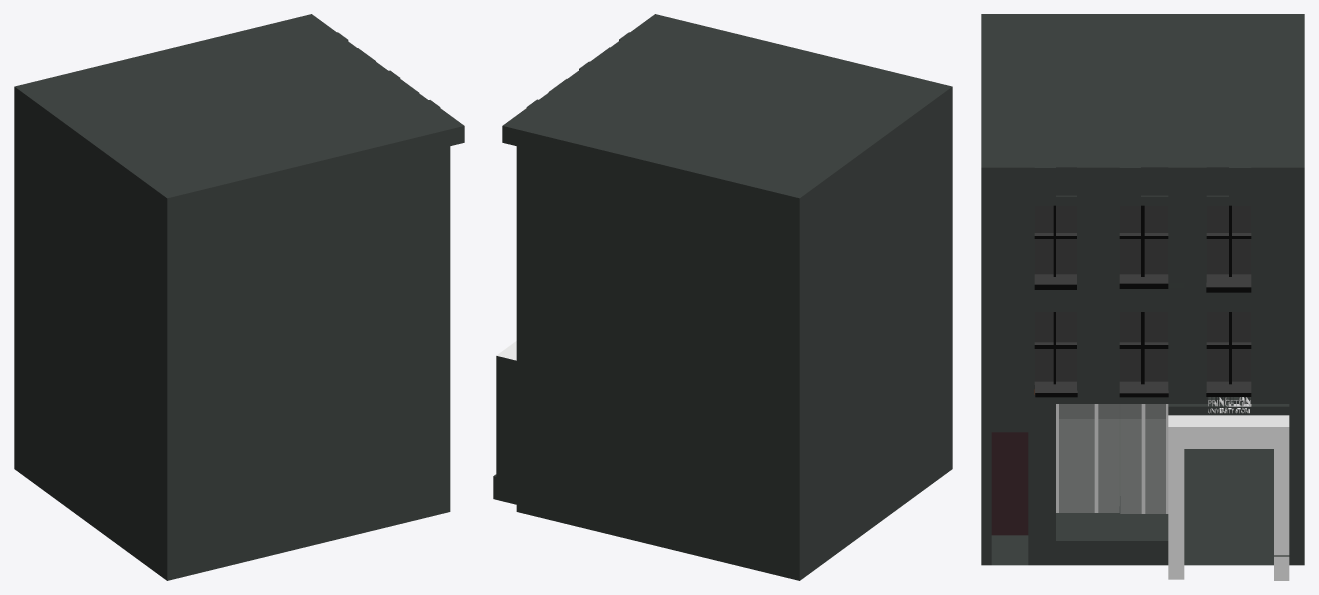
3 views of the same model, side by side, from view 1: azimuth 30°, elevation 25°; view 2: azimuth 150°, elevation 25°; view 3: azimuth 270°, elevation 25° (orthographic). The views are drawn at different scales.
Visible parts, largest first — view 1: Ustore; view 2: Ustore; view 3: Ustore.
Boxes of the visible parts, x1,y1,x2,y2 form: Ustore: [14, 14, 464, 580]; Ustore: [493, 14, 952, 580]; Ustore: [981, 14, 1304, 580].
Size of the model in its own units: 33.8 by 39.4 by 28.52.
